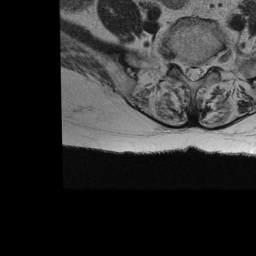CCS_normal: (190, 60, 197, 86)
LFS_normal: (205, 50, 215, 75)
LLS_normal: (197, 58, 205, 82)
RFS_stenosis: (174, 52, 183, 73)
RLS_normal: (183, 59, 190, 83)
